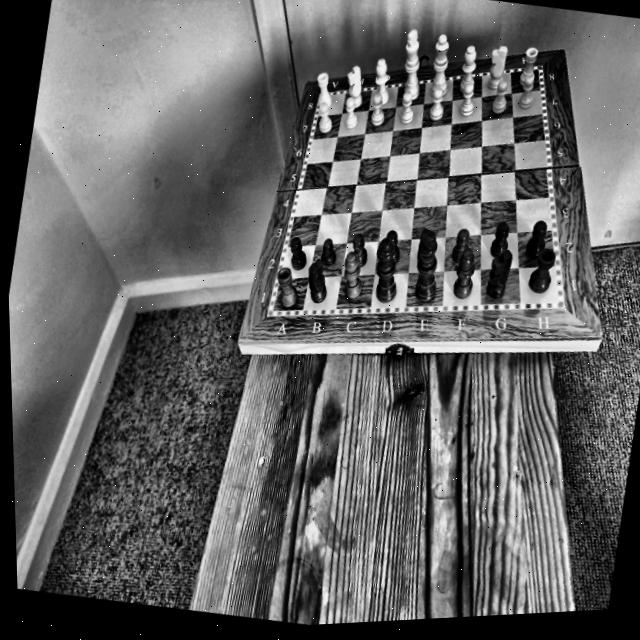black-bishop: (444, 244, 485, 304), (334, 248, 373, 308)
black-king: (403, 223, 452, 308)
black-knight: (478, 246, 522, 304), (301, 256, 333, 305)
black-pawn: (378, 221, 407, 267), (488, 215, 514, 260), (344, 229, 373, 269), (283, 232, 312, 272), (527, 216, 552, 258), (316, 236, 340, 271), (451, 229, 472, 265)
black-queen: (364, 234, 411, 306)
black-rook: (266, 262, 307, 315), (524, 245, 562, 299)
white-bishop: (368, 54, 397, 106), (454, 43, 483, 95)
white-king: (392, 24, 435, 102)
white-knight: (482, 44, 512, 92), (341, 63, 371, 110)
white-pawn: (366, 90, 391, 130), (426, 84, 451, 122), (395, 89, 421, 125), (313, 99, 337, 136), (490, 78, 513, 116), (515, 76, 539, 112), (339, 94, 362, 131), (457, 82, 480, 119)
white-queen: (424, 31, 460, 104)
white-rook: (518, 45, 543, 88), (312, 69, 337, 107)
